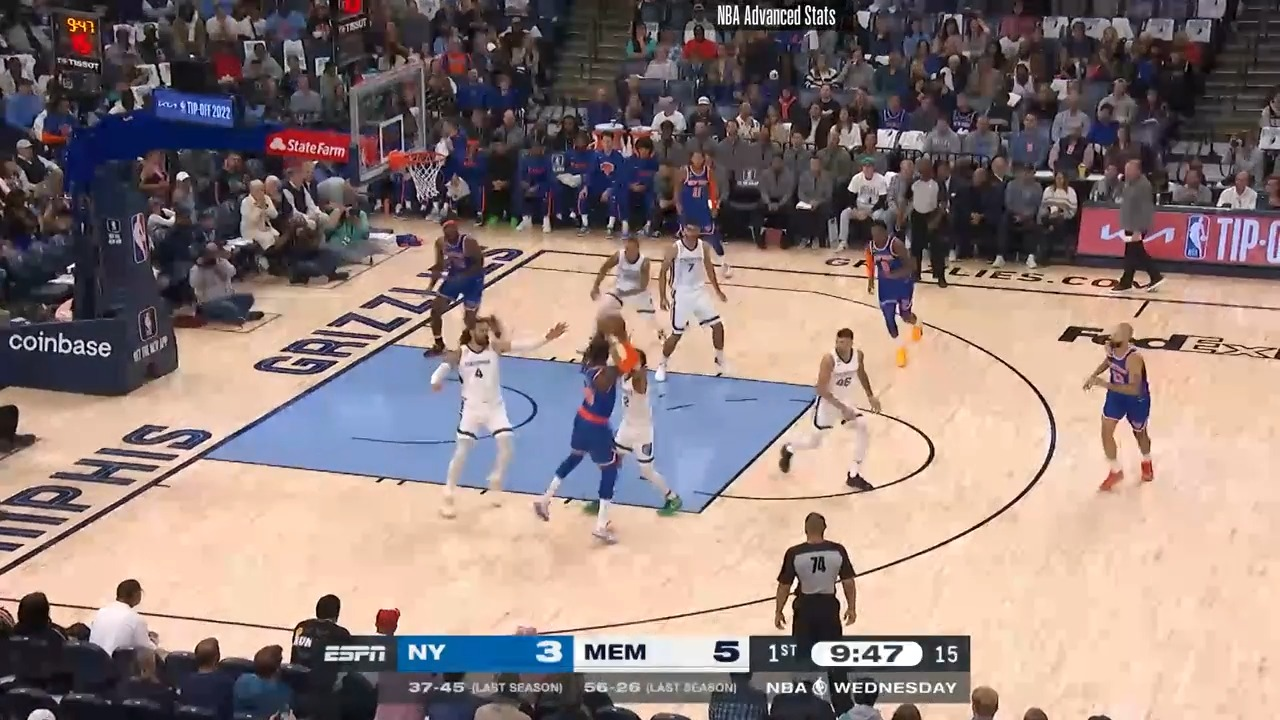net: (384, 145, 448, 201)
player: (435, 310, 569, 523), (590, 330, 689, 544), (538, 333, 635, 526), (779, 325, 888, 494), (1082, 322, 1162, 495), (657, 219, 739, 380), (584, 234, 666, 365), (423, 214, 491, 360), (858, 219, 917, 369), (668, 150, 729, 282)
referee: (775, 517, 863, 644), (900, 158, 949, 286)
